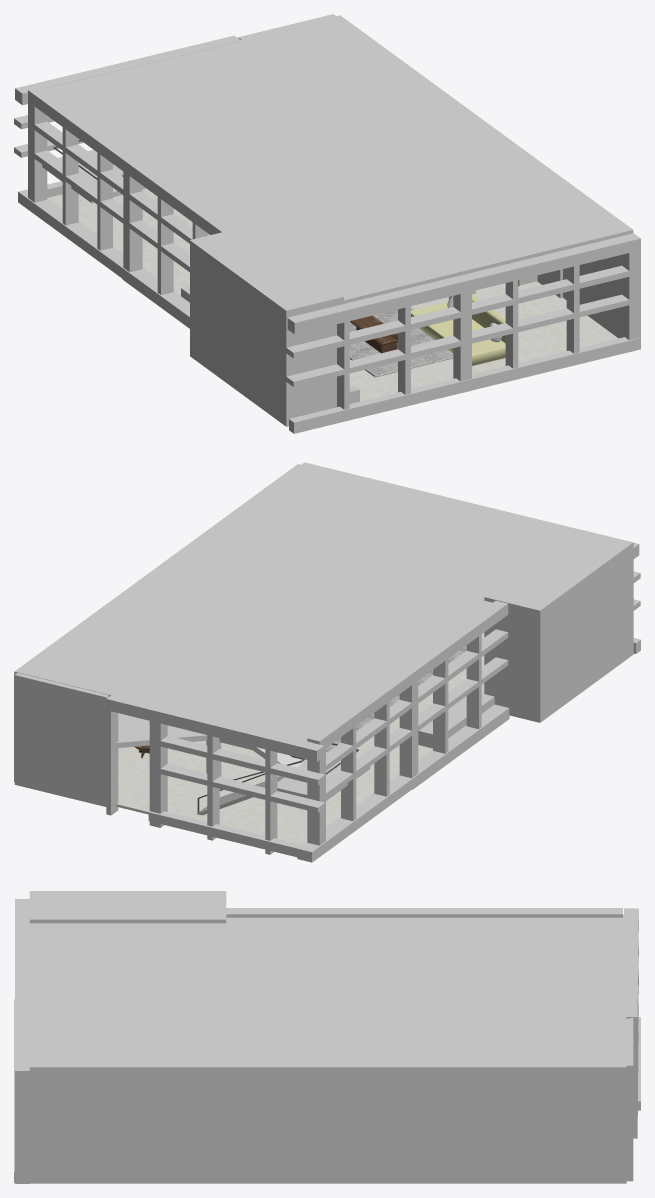
Rendered from house.fbx.
3 renders of one model, top to bottom at view 1: azimuth 30°, elevation 25°; view 2: azimuth 150°, elevation 25°; view 3: azimuth 270°, elevation 25°, orthographic. The views are drawn at different scales.
Visible parts, largest first — view 1: house; view 2: house; view 3: house.
Boxes of the visible parts, left/top/right/bottom form: house: left=14, top=14, right=640, bottom=433; house: left=14, top=462, right=640, bottom=862; house: left=14, top=891, right=640, bottom=1183.
Size of the model in its own units: 2868 by 971 by 4405.
